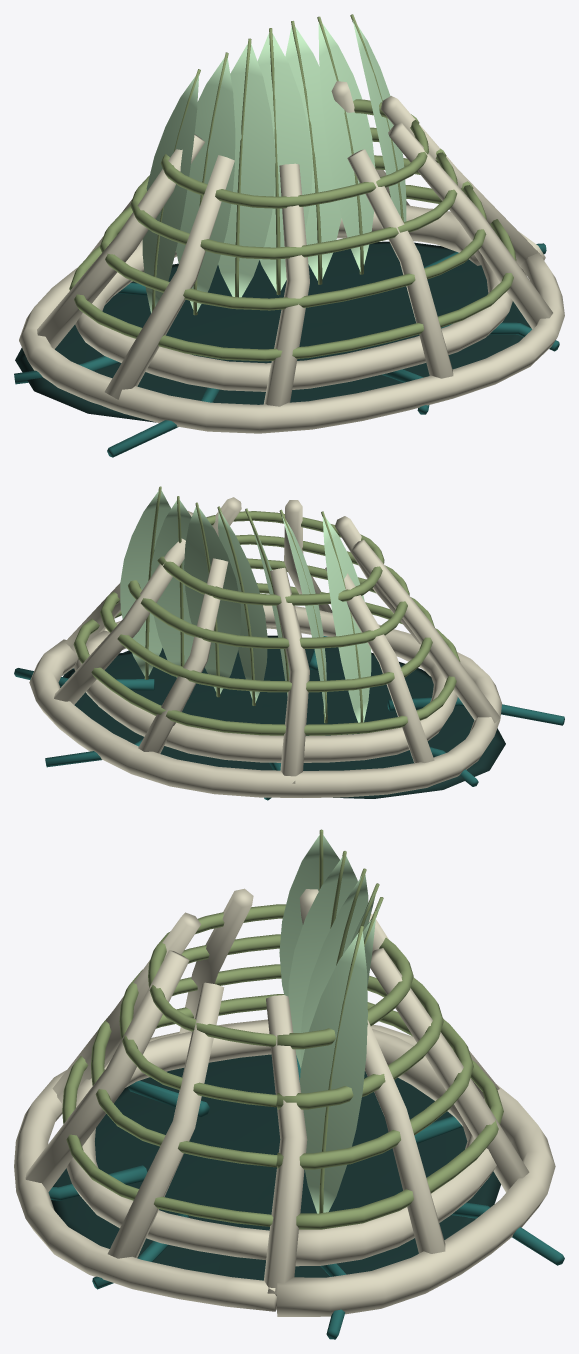
File: great_work_memory_reef_stage_2.obj
3 renders of one model, top to bottom at view 1: azimuth 30°, elevation 25°; view 2: azimuth 150°, elevation 25°; view 3: azimuth 270°, elevation 25°, orthographic. The views are drawn at different scales.
Parts seen in each view (by area): view 1: accreting_reef_foundation.004, accreting_reef_foundation.005, irregular_anchoring_lobe.117, irregular_anchoring_lobe.118, bent_living_blade.213, living_reef_lattice, irregular_anchoring_lobe.119, bent_living_blade.216, living_reef_lattice.001, reef_buttress.014, bent_living_blade.212, bent_living_blade.214 (+17 smaller); view 2: accreting_reef_foundation.004, accreting_reef_foundation.005, irregular_anchoring_lobe.117, living_reef_lattice, living_reef_lattice.001, irregular_anchoring_lobe.118, living_reef_lattice.002, bent_living_blade.215, reef_buttress.014, irregular_anchoring_lobe.119, reef_buttress.012, bent_living_blade.211 (+22 smaller); view 3: accreting_reef_foundation.004, accreting_reef_foundation.005, irregular_anchoring_lobe.119, irregular_anchoring_lobe.117, bent_living_blade.217, living_reef_lattice, living_reef_lattice.001, reef_buttress.009, living_reef_lattice.002, reef_buttress.017, reef_buttress.016, reef_buttress.011 (+12 smaller).
Boxes of the visible parts, x1,y1,x2,y2 form: accreting_reef_foundation.004: (19,208,564,433); accreting_reef_foundation.005: (75,205,512,391); irregular_anchoring_lobe.117: (15,260,309,422); irregular_anchoring_lobe.118: (266,241,514,322); bent_living_blade.213: (218,43,275,297); living_reef_lattice: (69,185,516,361); irregular_anchoring_lobe.119: (225,303,530,404); bent_living_blade.216: (318,22,375,271); living_reef_lattice.001: (100,155,486,310); reef_buttress.014: (104,155,234,399); bent_living_blade.212: (176,58,235,312); bent_living_blade.214: (257,33,312,291); accreting_reef_foundation.004: (29,621,501,797); accreting_reef_foundation.005: (74,605,457,762); irregular_anchoring_lobe.117: (160,704,505,798); living_reef_lattice: (73,583,460,735); living_reef_lattice.001: (100,558,434,692); irregular_anchoring_lobe.118: (60,652,262,743); living_reef_lattice.002: (128,534,409,648); bent_living_blade.215: (184,507,241,693); reef_buttress.014: (351,540,500,723); irregular_anchoring_lobe.119: (124,635,433,707); reef_buttress.012: (270,567,309,783); bent_living_blade.211: (322,516,371,722); accreting_reef_foundation.004: (14,1019,555,1316); accreting_reef_foundation.005: (66,1020,496,1266); irregular_anchoring_lobe.119: (51,1098,273,1274); irregular_anchoring_lobe.117: (118,1054,500,1224); bent_living_blade.217: (300,931,367,1213); living_reef_lattice: (62,994,503,1229); living_reef_lattice.001: (91,964,473,1169); reef_buttress.009: (264,995,307,1296); living_reef_lattice.002: (119,934,443,1109); reef_buttress.017: (107,982,224,1258); reef_buttress.016: (25,950,189,1191); reef_buttress.011: (370,948,529,1192).
Bounding box in the file's own units: 6.44 × 3.16 × 4.99.
